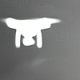plane: (1, 16, 63, 50)
